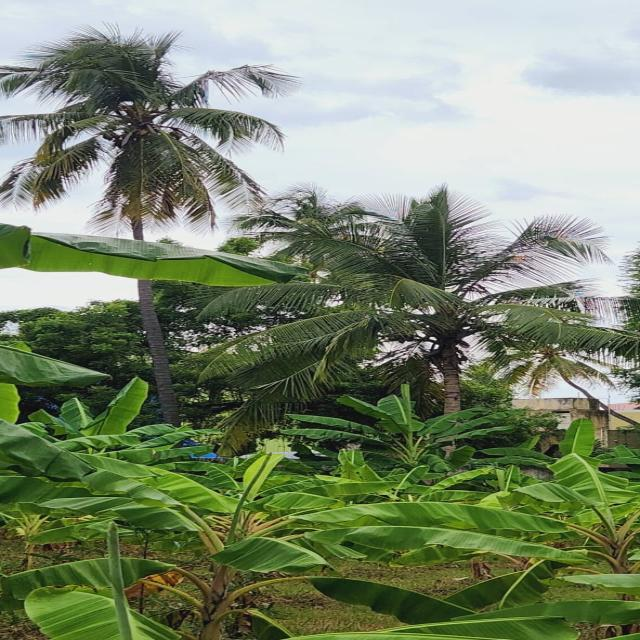Coconut-tree: (6, 15, 262, 239), (355, 207, 522, 431)
